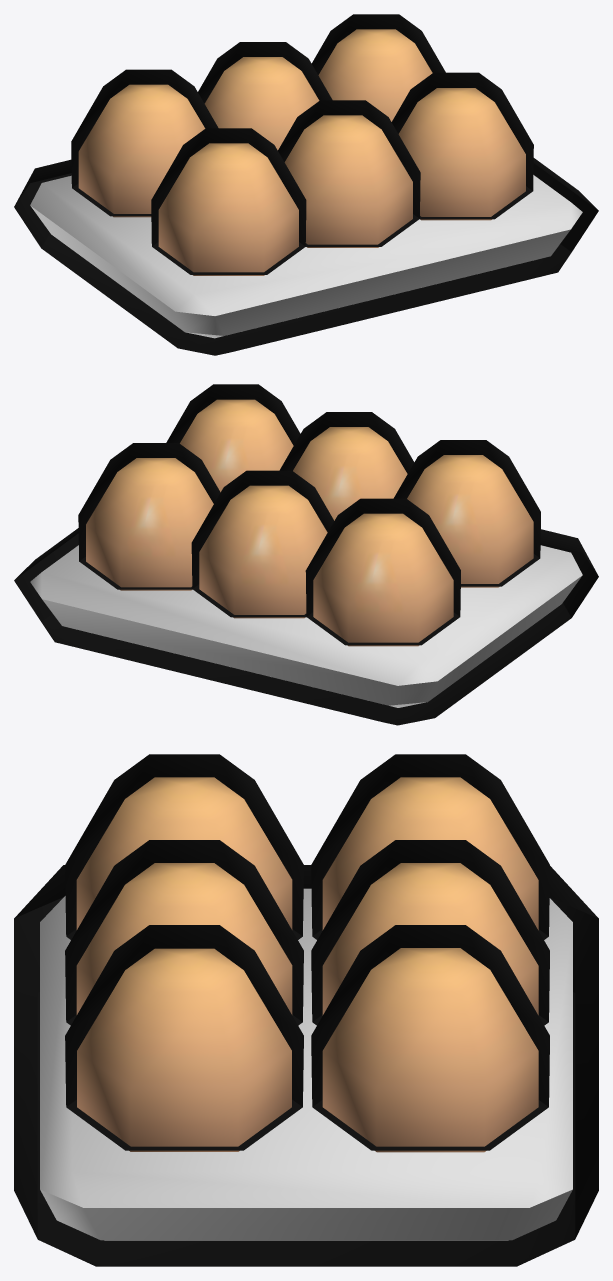
The model's file is egg.FBX.
3 renders of one model, top to bottom at view 1: azimuth 30°, elevation 25°; view 2: azimuth 150°, elevation 25°; view 3: azimuth 270°, elevation 25°, orthographic. The views are drawn at different scales.
Visible parts, largest first — view 1: Box025; view 2: Box025; view 3: Box025.
Part boxes in pixels (x1,y1,x2,y2): Box025: [14, 14, 598, 355]; Box025: [14, 384, 598, 725]; Box025: [14, 754, 598, 1266].
Bounding box in the file's own units: 0.8599 × 0.3693 × 0.6511.
